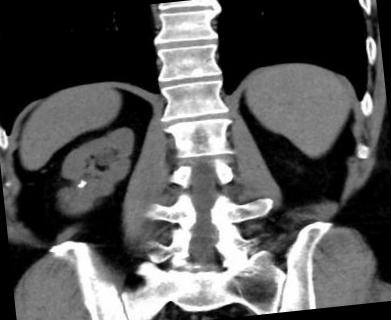Tas_Var: (75, 177, 87, 191)
